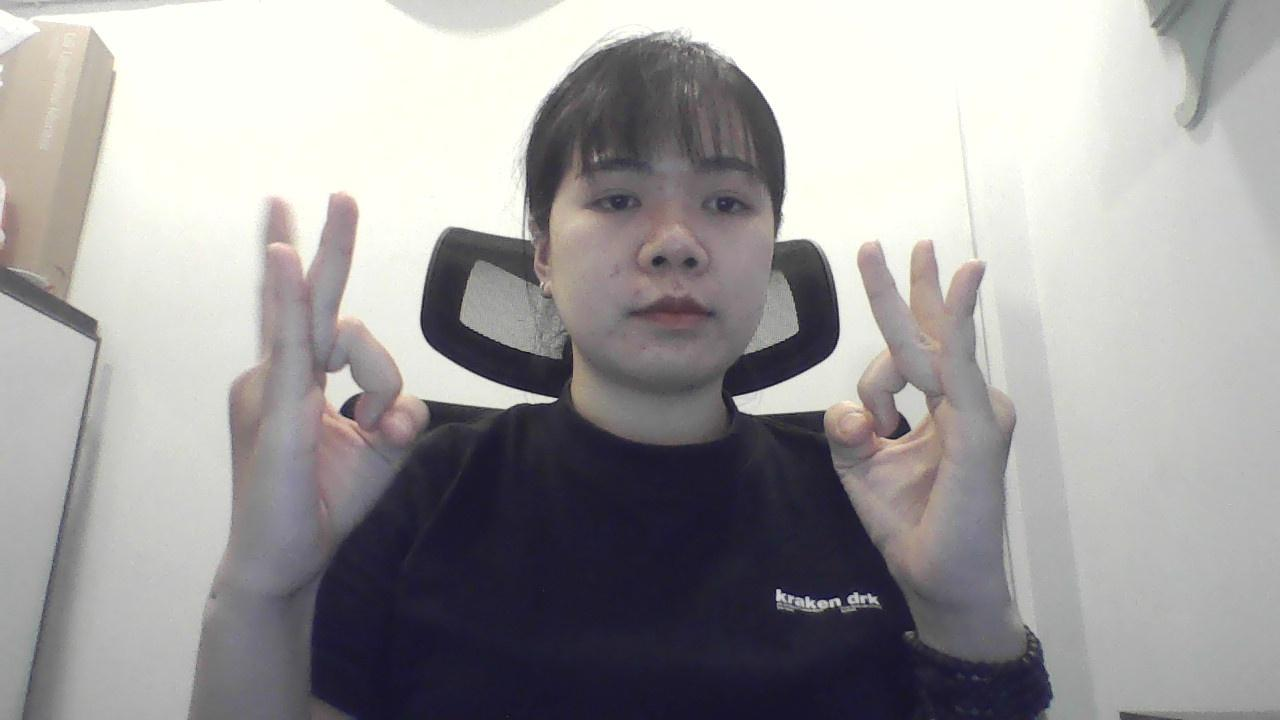H: (221, 180, 434, 624), (822, 229, 1035, 629)
